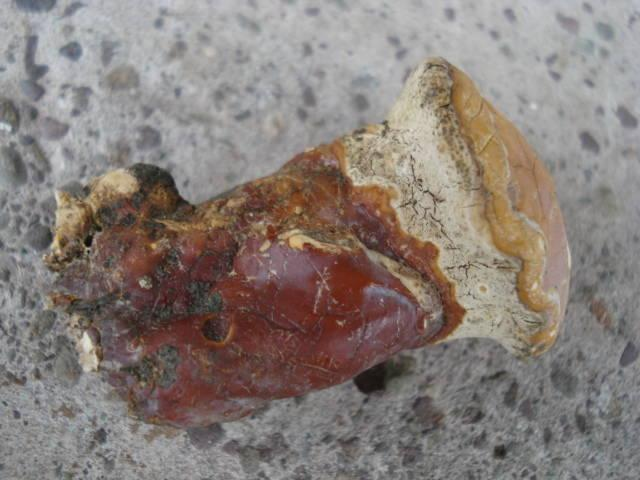poisonous_mushroom: (42, 54, 573, 430)
